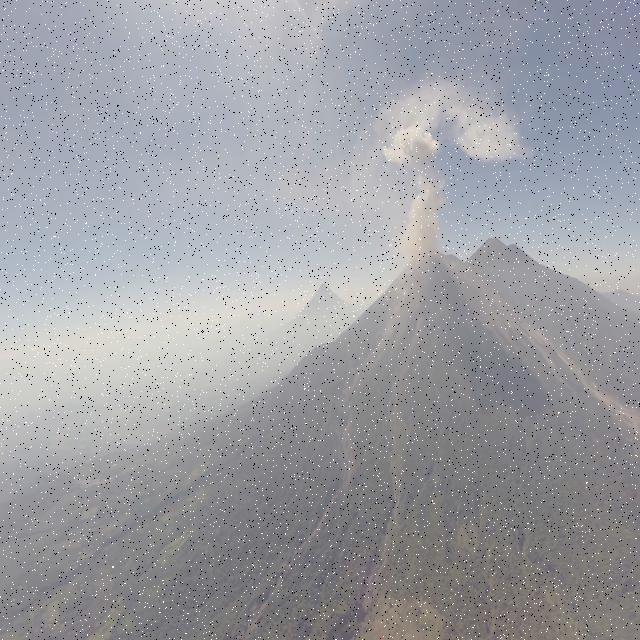Plume: (392, 168, 446, 264), (456, 98, 526, 164), (382, 122, 440, 170)
